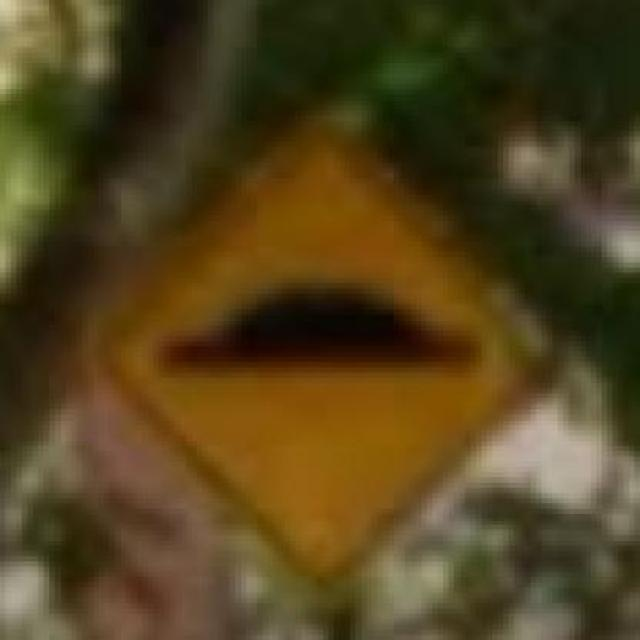Polisi Tidur: (66, 88, 576, 606)
